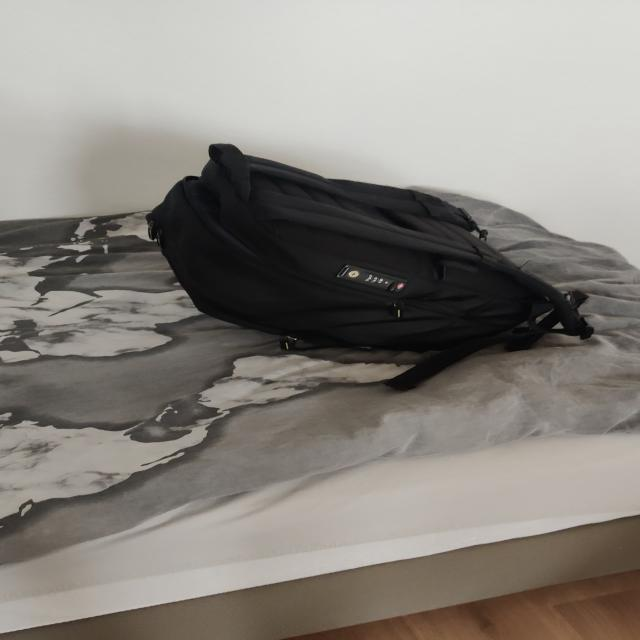backpack: (135, 137, 587, 373)
